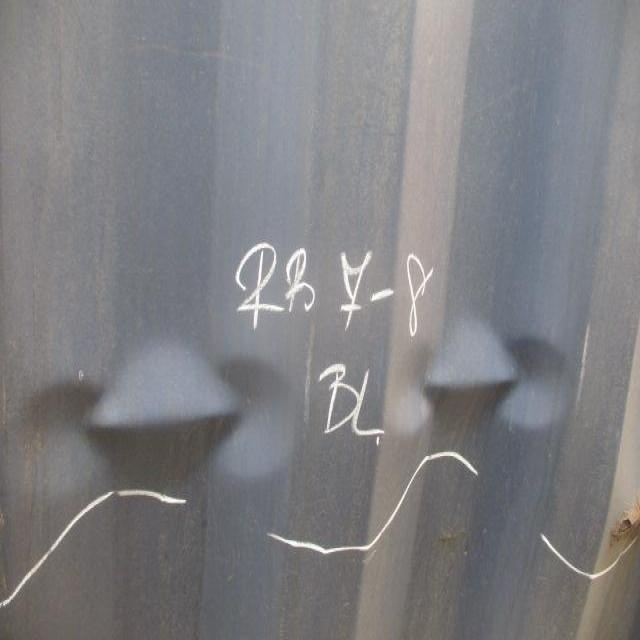dent: (21, 329, 305, 538), (384, 298, 585, 517)
